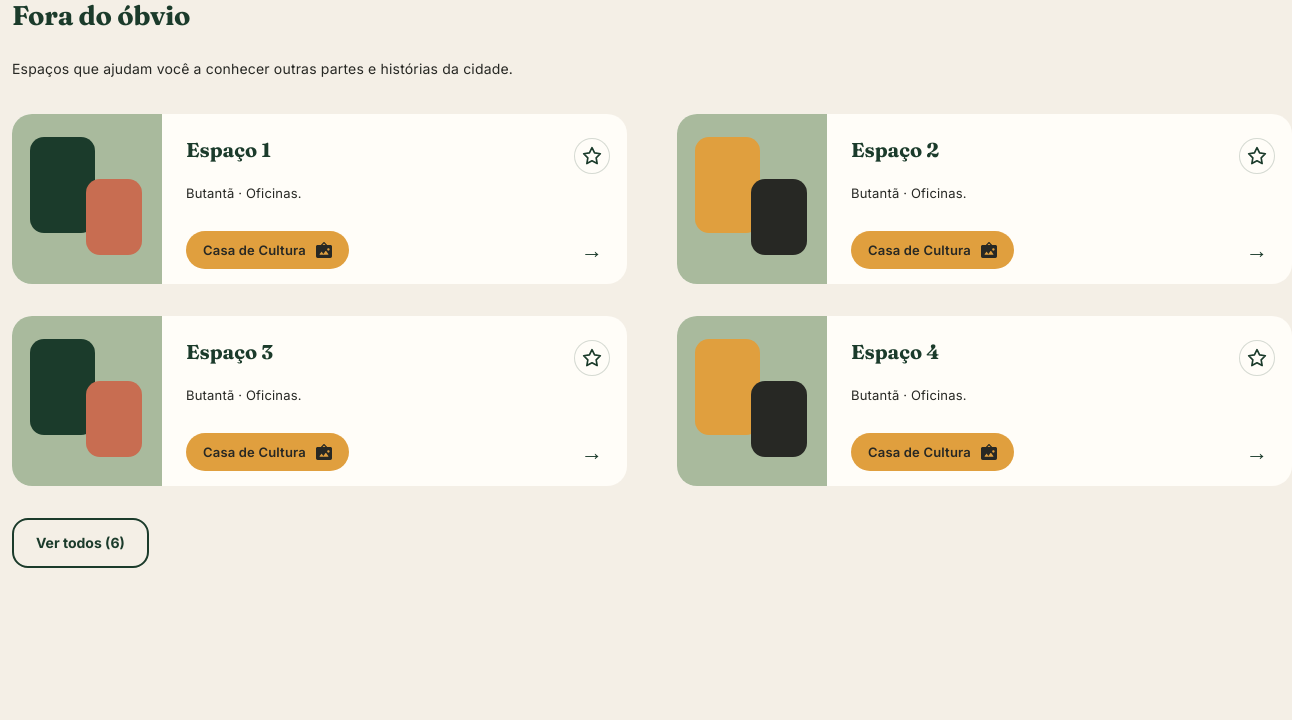
Test case: DiscoverSection › mostra os 4 primeiros cards e expande para a seleção completa
Expected: the headings read "Espaço 1", "Espaço 2", "Espaço 3", "Espaço 4", in this order, [186,138,278,162]; [851,138,946,162]; [186,340,280,364]; [851,340,947,364]
Click the button "Ver todos (6)".
click(80, 544)  # box [12,518,149,568]
(page scrolled)
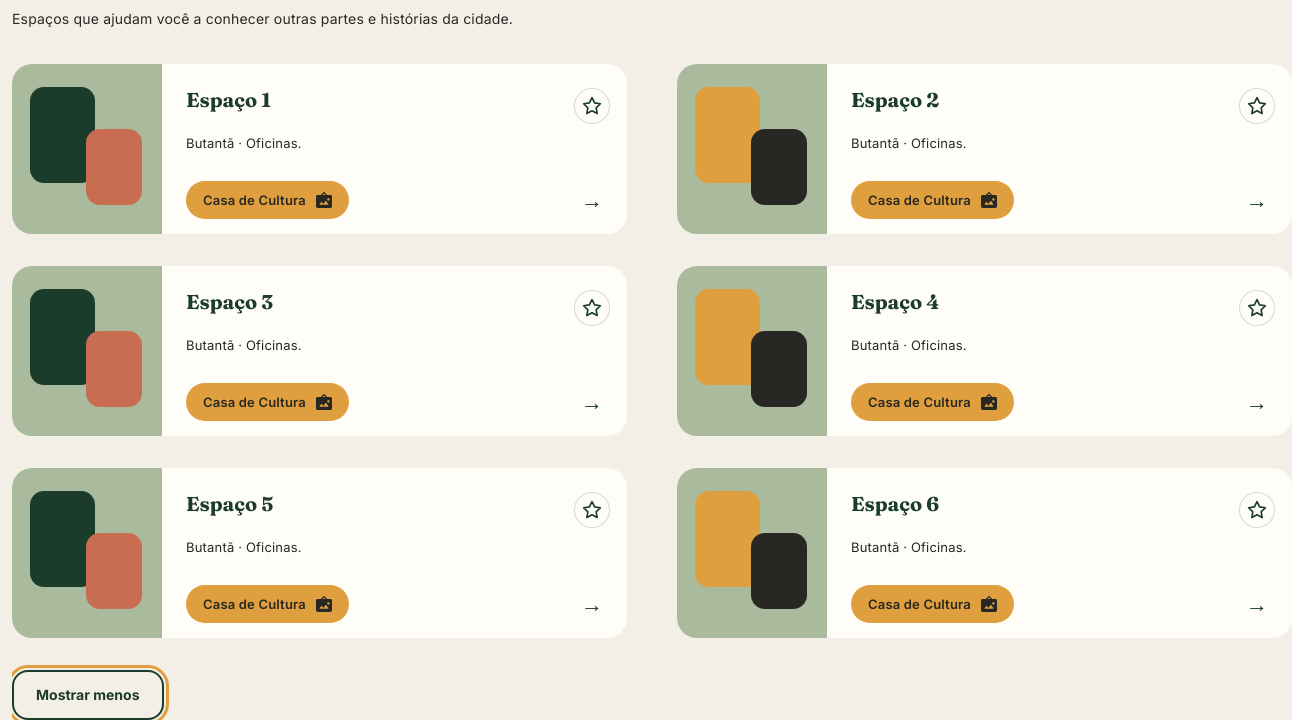
Expected: the number of list items is 6, [12,64,627,234]; [677,64,1291,234]; [12,266,627,436]; [677,266,1291,436]; [12,468,627,638]; [677,468,1291,638]
Expected: the button "Mostrar menos" is expanded, [12,670,164,719]
